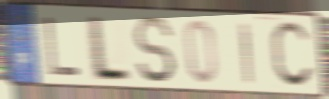0: (182, 18, 218, 85)
C: (268, 19, 317, 91)
I: (238, 20, 255, 86)
L: (88, 13, 132, 84), (42, 14, 83, 78)
S: (131, 15, 178, 86)
